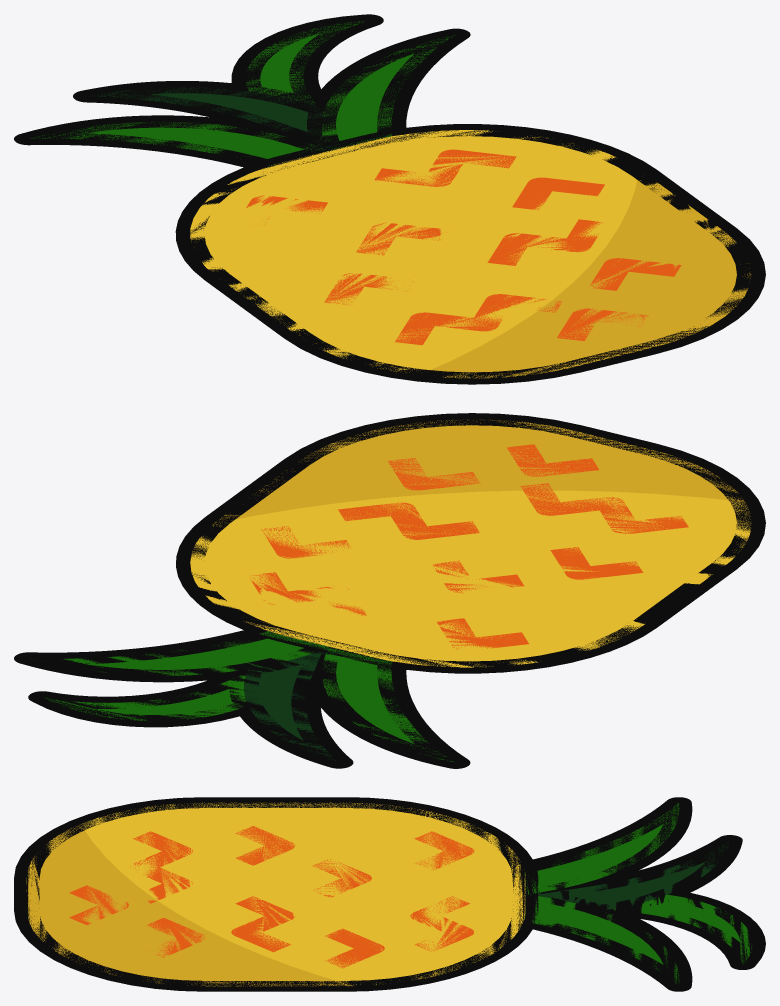
Rendered from pineapple.obj.
3 renders of one model, top to bottom at view 1: azimuth 30°, elevation 25°; view 2: azimuth 150°, elevation 25°; view 3: azimuth 270°, elevation 25°, orthographic. The views are drawn at different scales.
Bounding box in the file's own units: 0.0885 × 0 × 0.1445.
